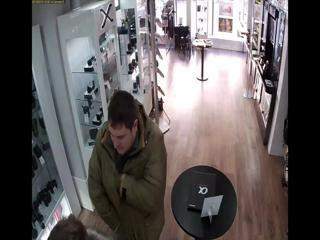Normal: (88, 90, 168, 240), (48, 216, 88, 240)
